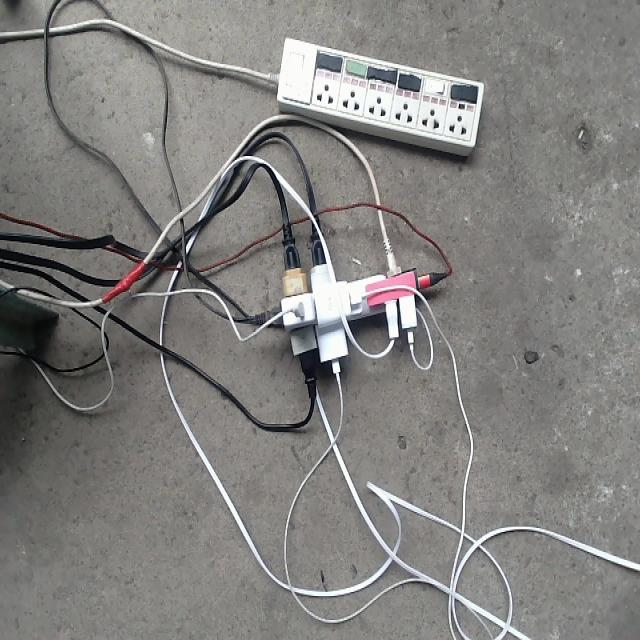-: (248, 211, 451, 401)
